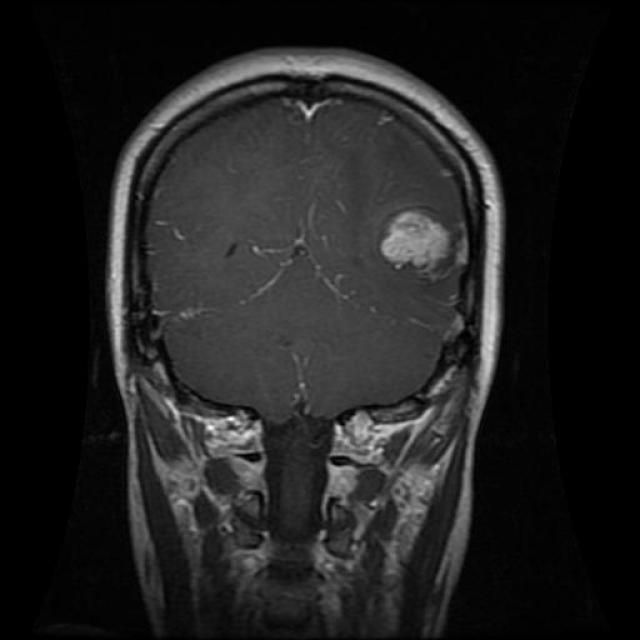Brain-Tumor: (371, 196, 461, 289)
